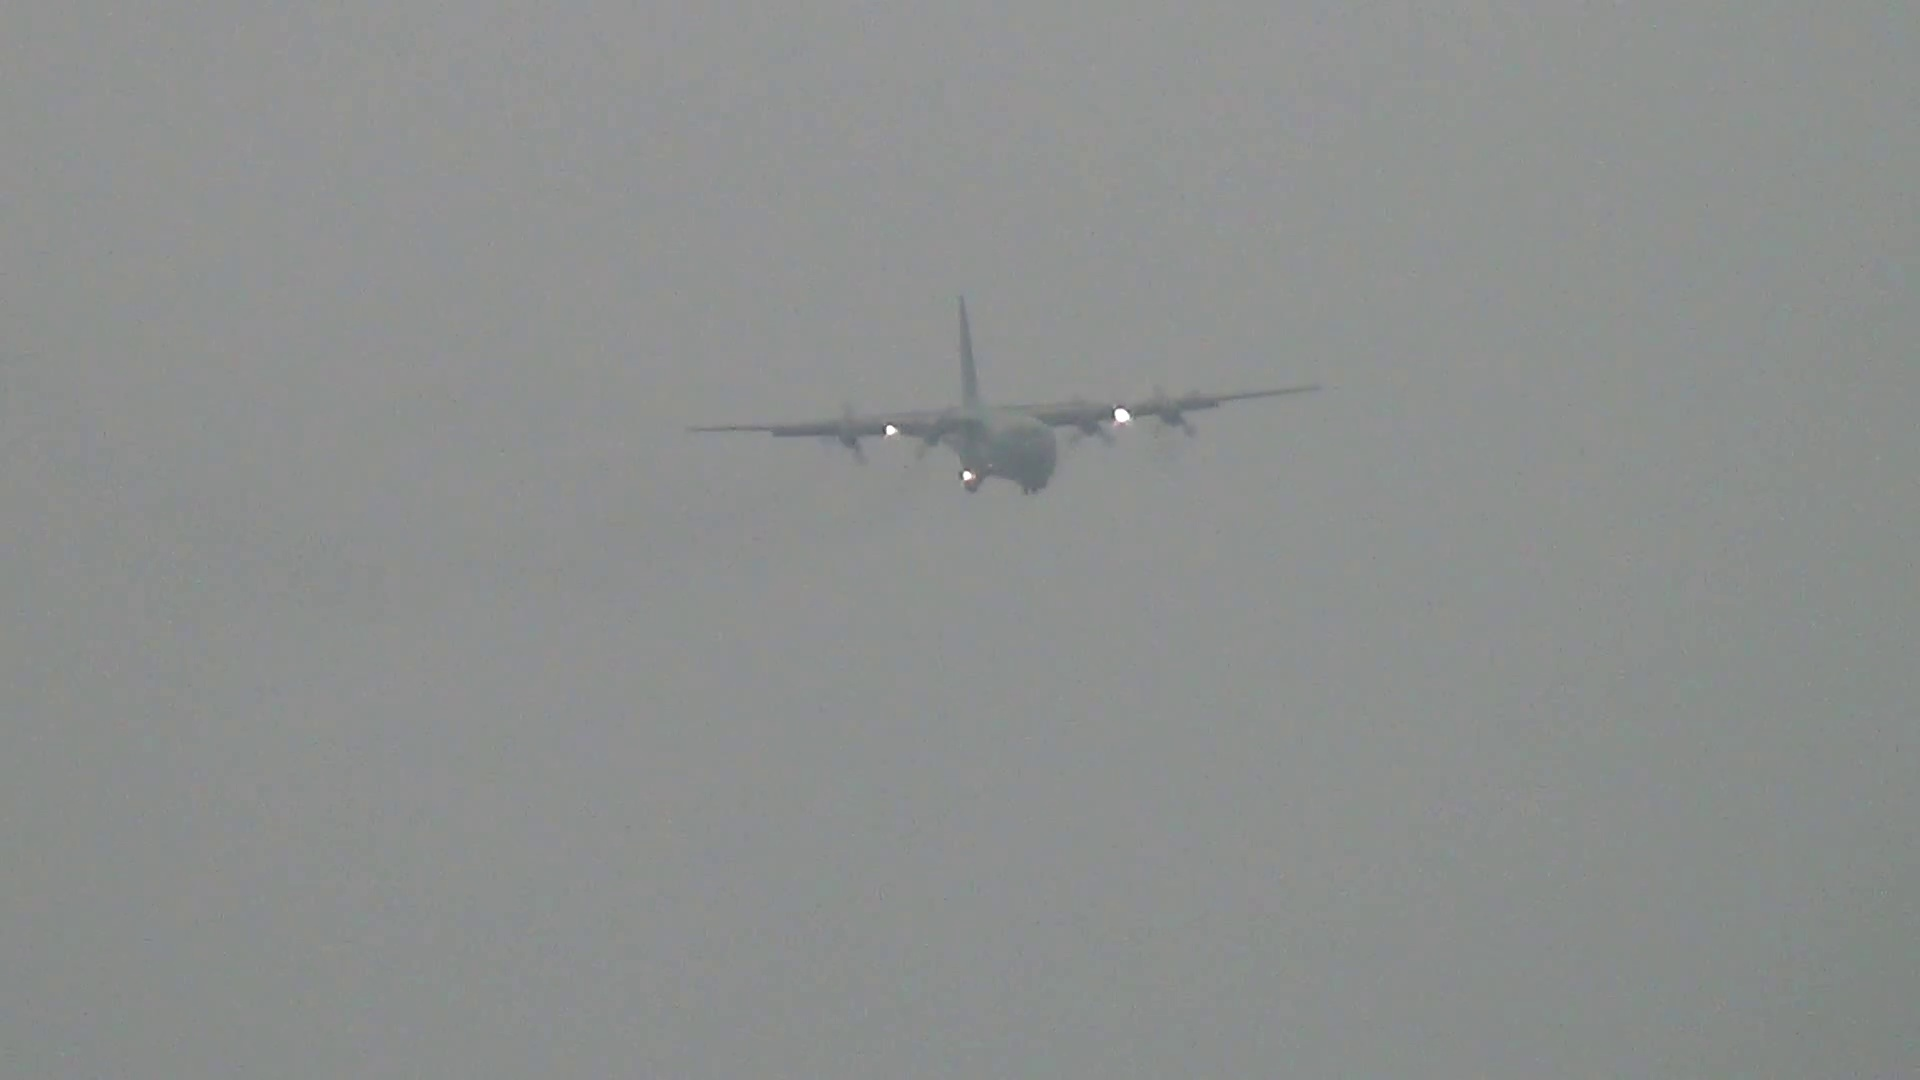Airplane: (679, 287, 1331, 498)
